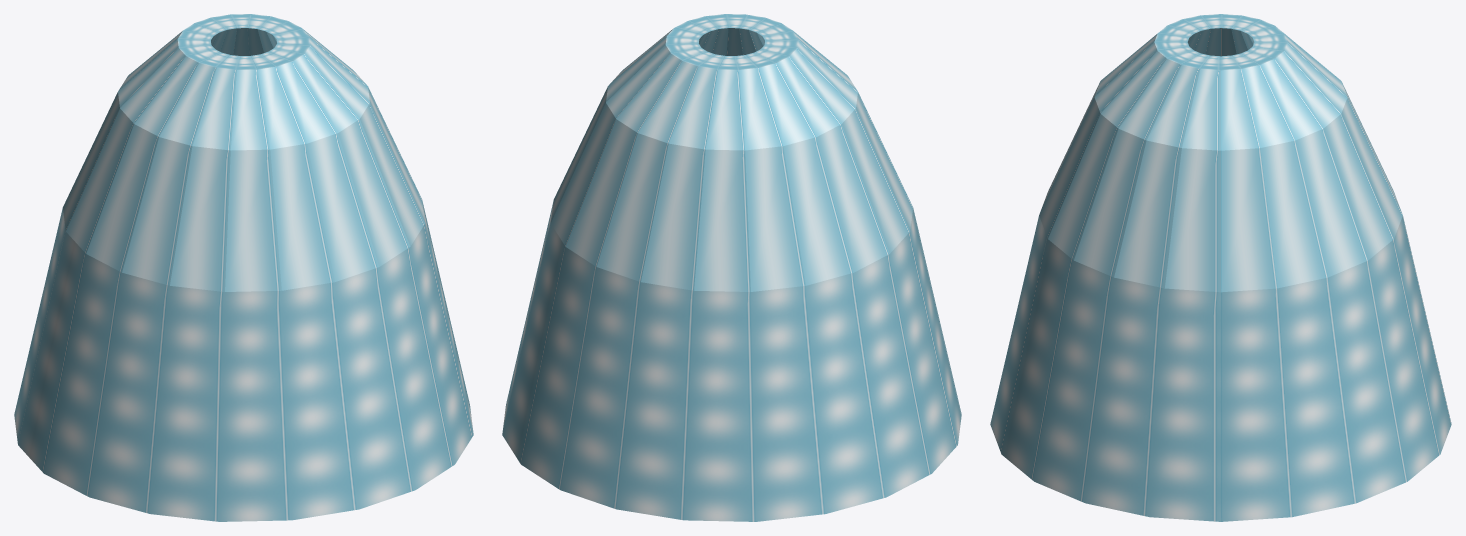
Rendered from chandelier.fbx.
3 renders of one model, left to right at view 1: azimuth 30°, elevation 25°; view 2: azimuth 150°, elevation 25°; view 3: azimuth 270°, elevation 25°, orthographic.
Parts seen in each view (by area): view 1: pPipe1; view 2: pPipe1; view 3: pPipe1.
Part boxes in pixels (x1,y1,x2,y2): pPipe1: [14, 14, 473, 521]; pPipe1: [502, 14, 961, 521]; pPipe1: [990, 14, 1451, 521].
Size of the model in its own units: 5.31 by 4.86 by 5.31.
